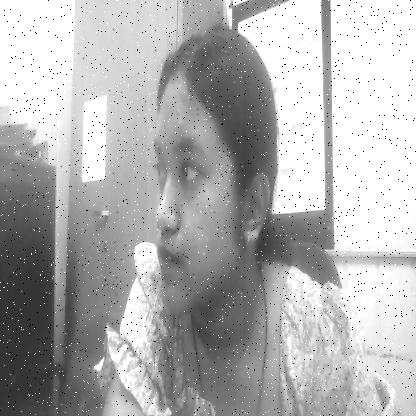Distracted: (147, 71, 243, 352)
